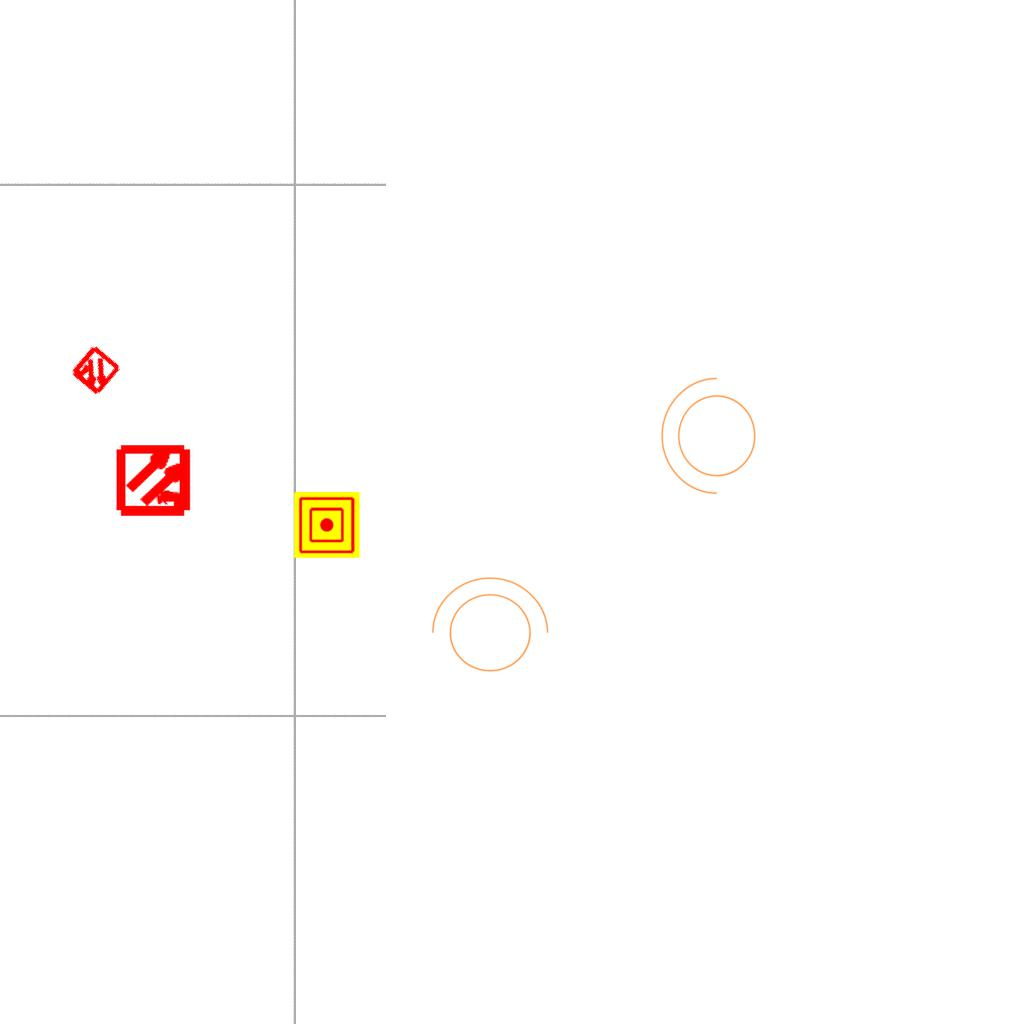NAM-Nichtautomatischer_Melder: (294, 492, 360, 558)
OT_Multisensormelder_(Kombination_RMO_WMD): (99, 424, 212, 537), (55, 331, 135, 411)
Scheinwerfer_fuer_Alarmbeleuchtung: (421, 572, 553, 684), (656, 373, 768, 505)
